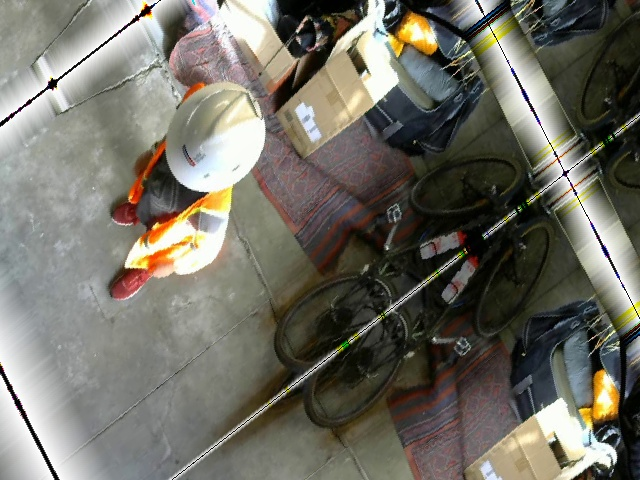one: (244, 86, 266, 120)
